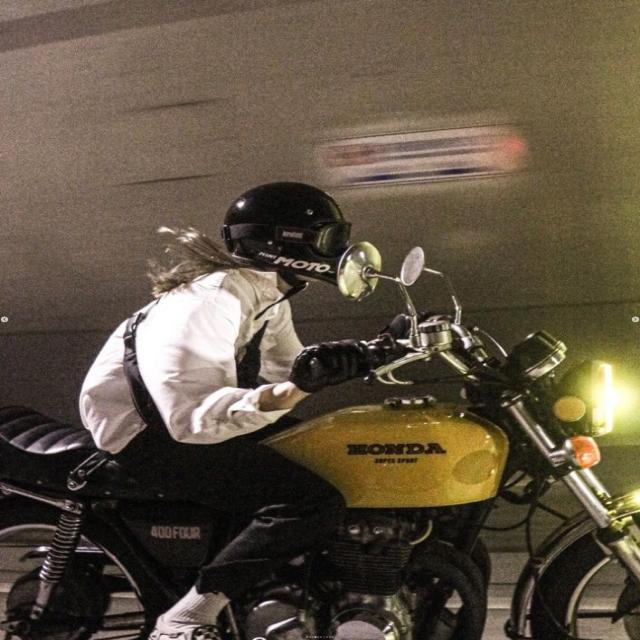helmet: (217, 178, 354, 296)
